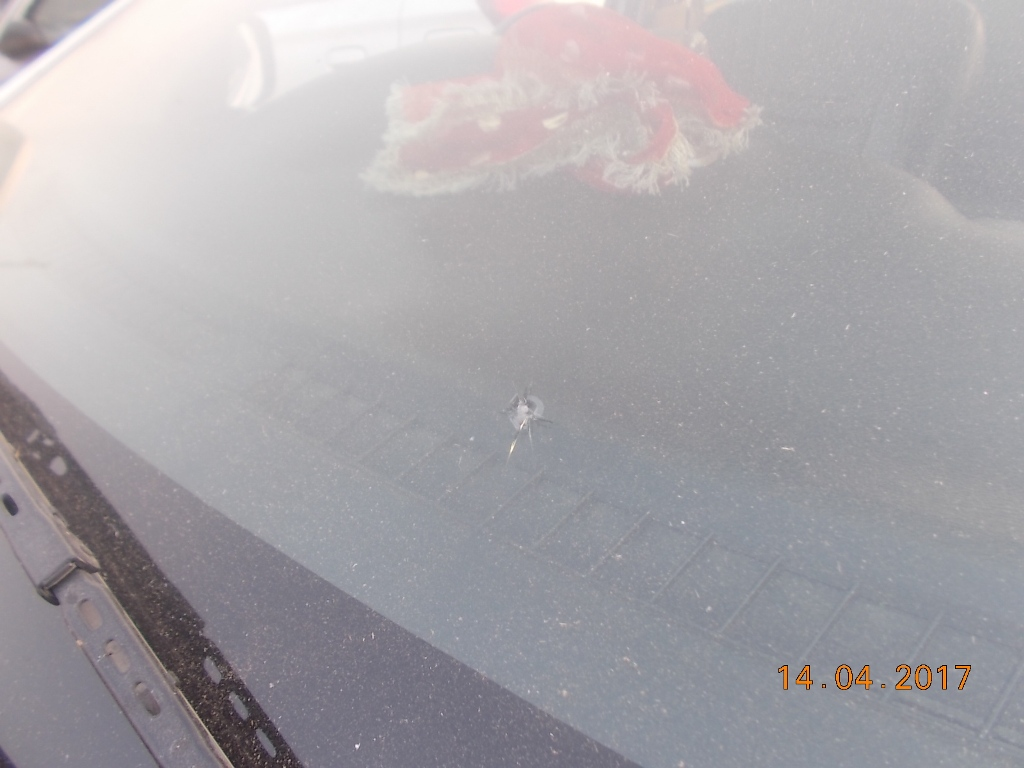Shatter: (498, 383, 562, 448)
